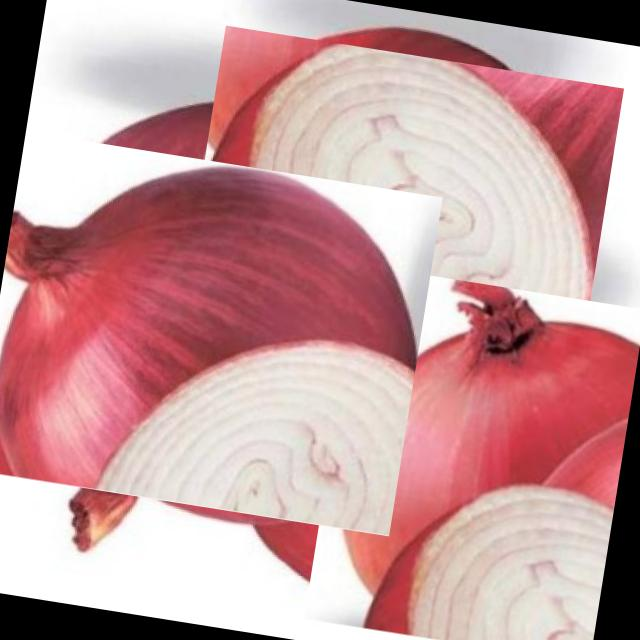Onion: (166, 26, 624, 458), (0, 102, 417, 561), (304, 264, 640, 640)
